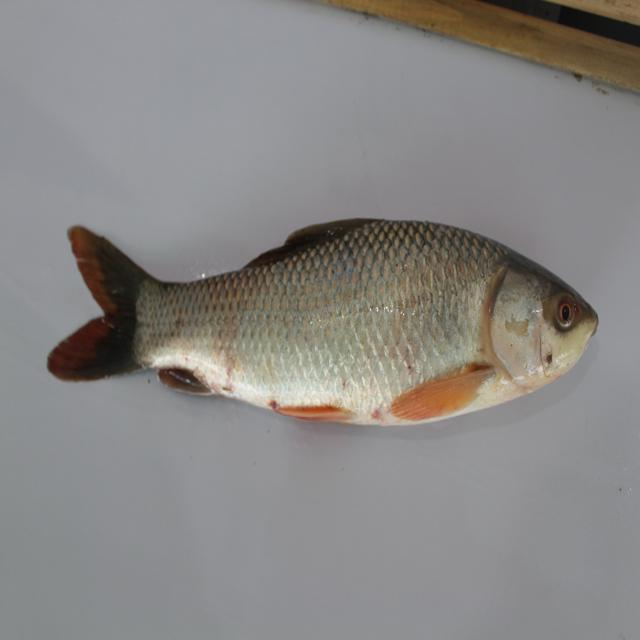Rohu: (46, 214, 605, 420)
